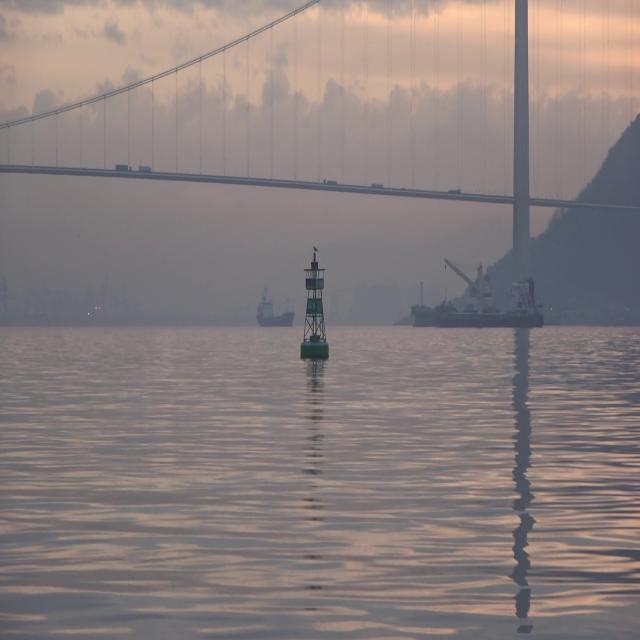ship: (411, 253, 544, 326), (256, 285, 294, 327)
